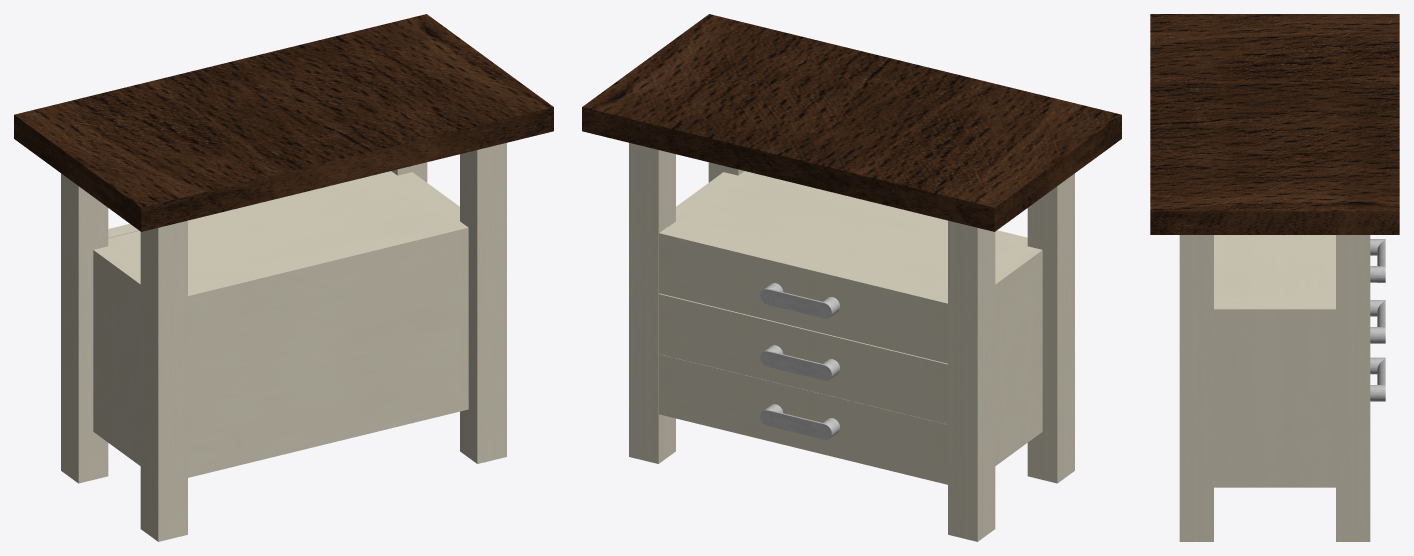
The model's file is 8. 서랍장.fbx.
The picture shows the model from 3 angles, left to right: view 1: azimuth 30°, elevation 25°; view 2: azimuth 150°, elevation 25°; view 3: azimuth 270°, elevation 25°; orthographic projection. The views are drawn at different scales.
Visible parts, largest first — view 1: 서랍장; view 2: 서랍장, 서랍; view 3: 서랍장, 서랍.
Part boxes in pixels (left/top/right/bottom): 서랍장: left=14, top=14, right=553, bottom=541; 서랍장: left=582, top=14, right=1121, bottom=541; 서랍: left=659, top=226, right=947, bottom=363; 서랍장: left=1150, top=14, right=1399, bottom=541; 서랍: left=1370, top=239, right=1385, bottom=282.
Size of the model in its own units: 229 by 187 by 122.
3 materials, 3 textured.
